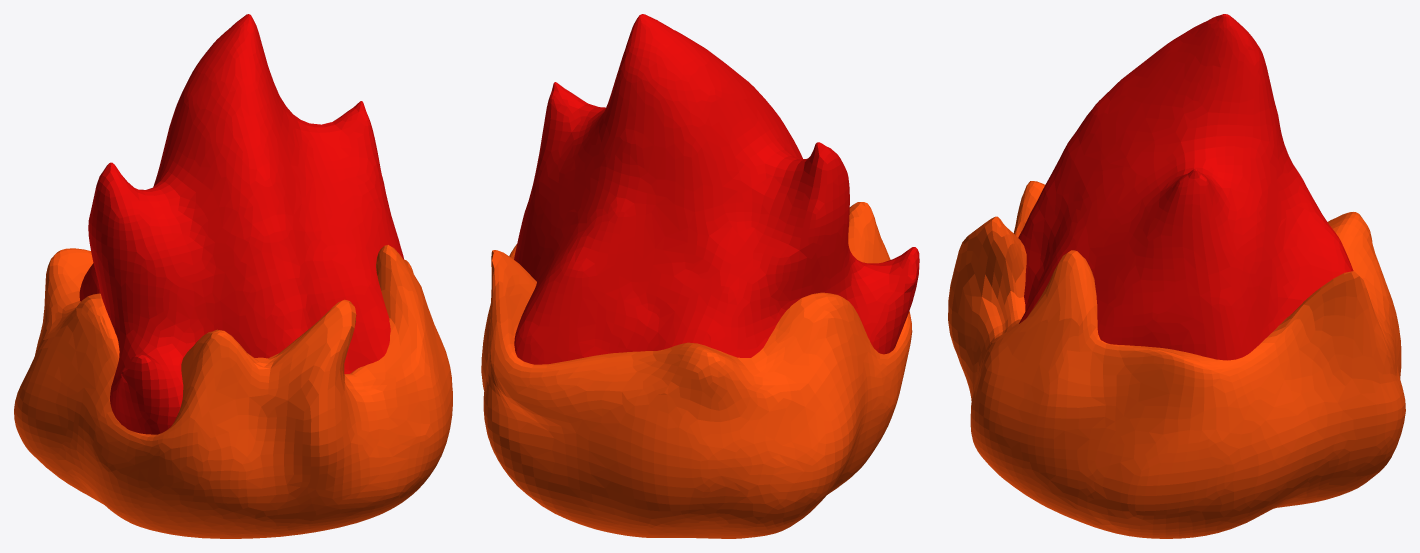
The model's file is Fire.fbx.
3 renders of one model, left to right at view 1: azimuth 30°, elevation 25°; view 2: azimuth 150°, elevation 25°; view 3: azimuth 270°, elevation 25°, orthographic. The views are drawn at different scales.
Parts seen in each view (by area): view 1: Cone, Cone.001; view 2: Cone.001, Cone; view 3: Cone, Cone.001.
Boxes of the visible parts, x1,y1,x2,y2 form: Cone: [14, 245, 452, 538]; Cone.001: [79, 14, 404, 434]; Cone.001: [514, 14, 919, 364]; Cone: [481, 202, 912, 538]; Cone: [948, 181, 1405, 538]; Cone.001: [1018, 14, 1353, 360].
Size of the model in its own units: 190 by 235 by 197.
